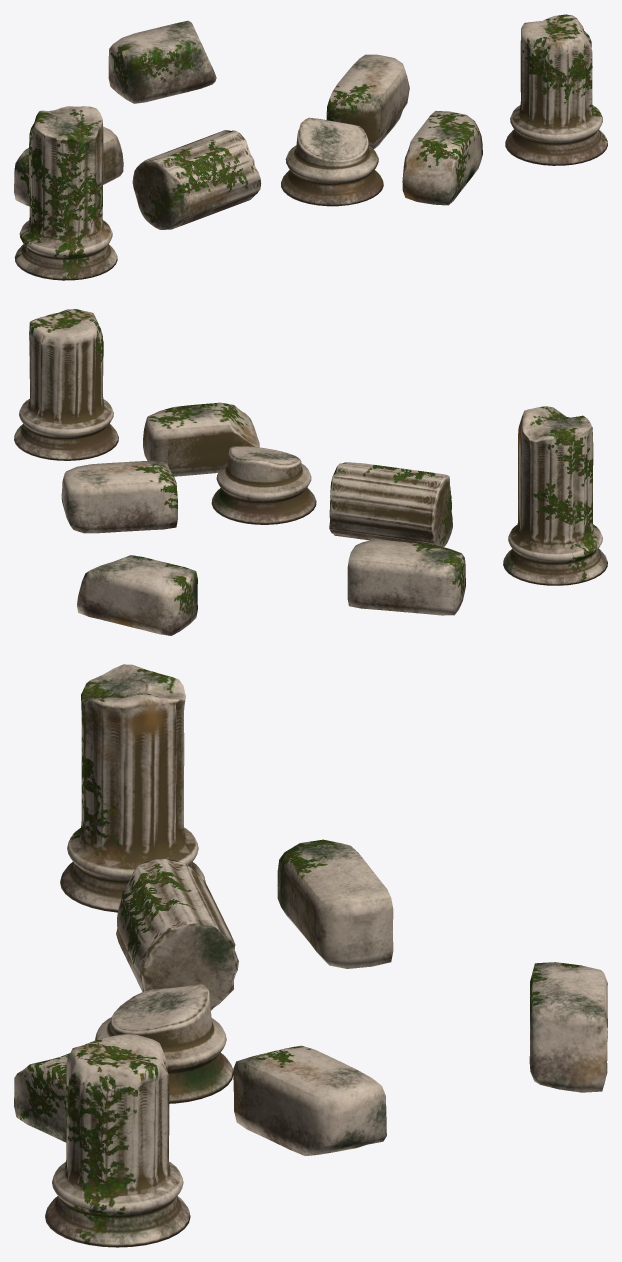
Rendered from debris.obj.
3 views of the same model, one above another, from view 1: azimuth 30°, elevation 25°; view 2: azimuth 150°, elevation 25°; view 3: azimuth 270°, elevation 25° (orthographic). The views are drawn at different scales.
Visible parts, largest first — view 1: defaultMaterial; view 2: defaultMaterial; view 3: defaultMaterial.
Part boxes in pixels (left/top/right/bottom): defaultMaterial: left=14, top=14, right=607, bottom=280; defaultMaterial: left=14, top=309, right=607, bottom=635; defaultMaterial: left=14, top=664, right=607, bottom=1247.
Bounding box in the file's own units: 1.14 × 0.2807 × 0.7235.
1 material, 1 textured.
